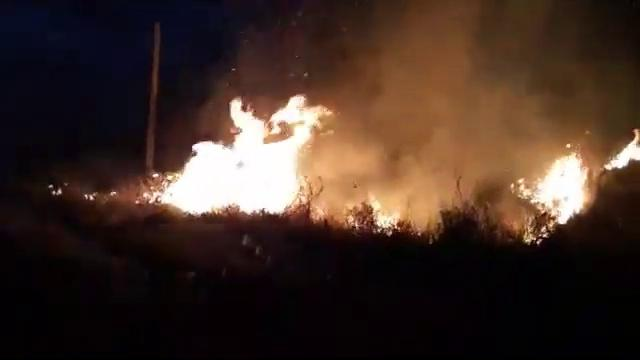fire: (190, 142, 293, 214), (550, 166, 581, 217)
smoke: (365, 28, 553, 158)
